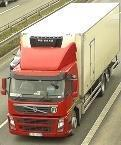truck: (2, 3, 119, 137)
